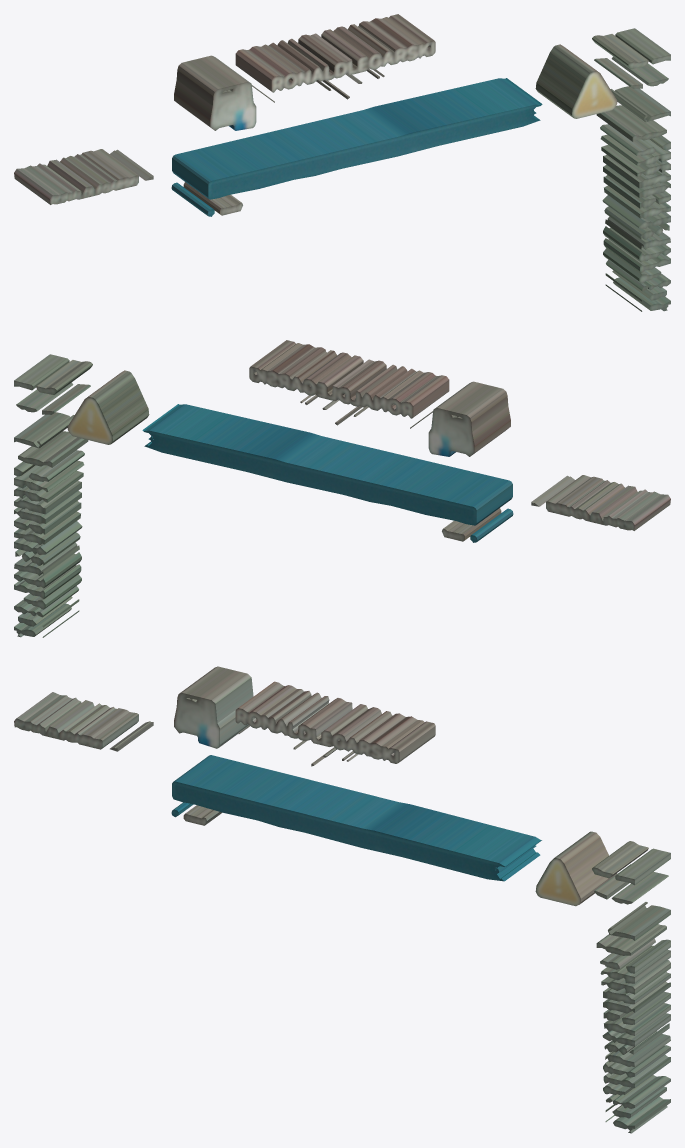
Rendered from RONALDLEGARSKI.obj.
3 views of the same model, one above another, from view 1: azimuth 30°, elevation 25°; view 2: azimuth 150°, elevation 25°; view 3: azimuth 330°, elevation 25° (orthographic).
Visible parts, largest first — view 1: Object.35, Object.31, Object.29, Object.40, Object.38, Object.25, Object.26, Object.36, Object.37, Object.10, Object.22, Object.20 (+15 smaller); view 2: Object.35, Object.31, Object.29, Object.40, Object.38, Object.25, Object.26, Object.36, Object.37, Object.10, Object.22, Object.20 (+15 smaller); view 3: Object.35, Object.31, Object.29, Object.40, Object.38, Object.26, Object.36, Object.37, Object.25, Object.7, Object.12, Object.22 (+8 smaller).
Boxes of the visible parts, x1,y1,x2,y2 form: Object.35: (172,78,542,199); Object.31: (235,14,435,92); Object.29: (174,55,256,130); Object.40: (14,149,138,204); Object.38: (535,44,617,118); Object.25: (596,105,666,141); Object.26: (610,86,670,122); Object.36: (615,28,670,64); Object.37: (592,34,648,68); Object.10: (603,226,670,262); Object.22: (600,134,670,165); Object.20: (603,154,670,188); Object.35: (142,404,512,525); Object.31: (249,340,449,418); Object.29: (428,381,510,456); Object.40: (546,475,670,530); Object.38: (67,370,149,444); Object.25: (18,431,88,467); Object.26: (14,412,74,448); Object.36: (14,354,69,390); Object.37: (36,360,92,394); Object.10: (14,552,81,588); Object.22: (14,460,84,491); Object.20: (14,480,81,514); Object.35: (172,755,541,881); Object.31: (235,681,435,763); Object.29: (174,666,253,748); Object.40: (14,692,138,749); Object.38: (535,831,617,906); Object.26: (608,902,670,940); Object.36: (615,848,670,885); Object.37: (592,841,648,878); Object.25: (596,924,666,955); Object.7: (613,1075,670,1108); Object.12: (607,1031,670,1066); Object.22: (600,945,670,983).
Bounding box in the file's own units: 243 × 124 × 24.51.
Materials: 1 (1 with a texture image).
